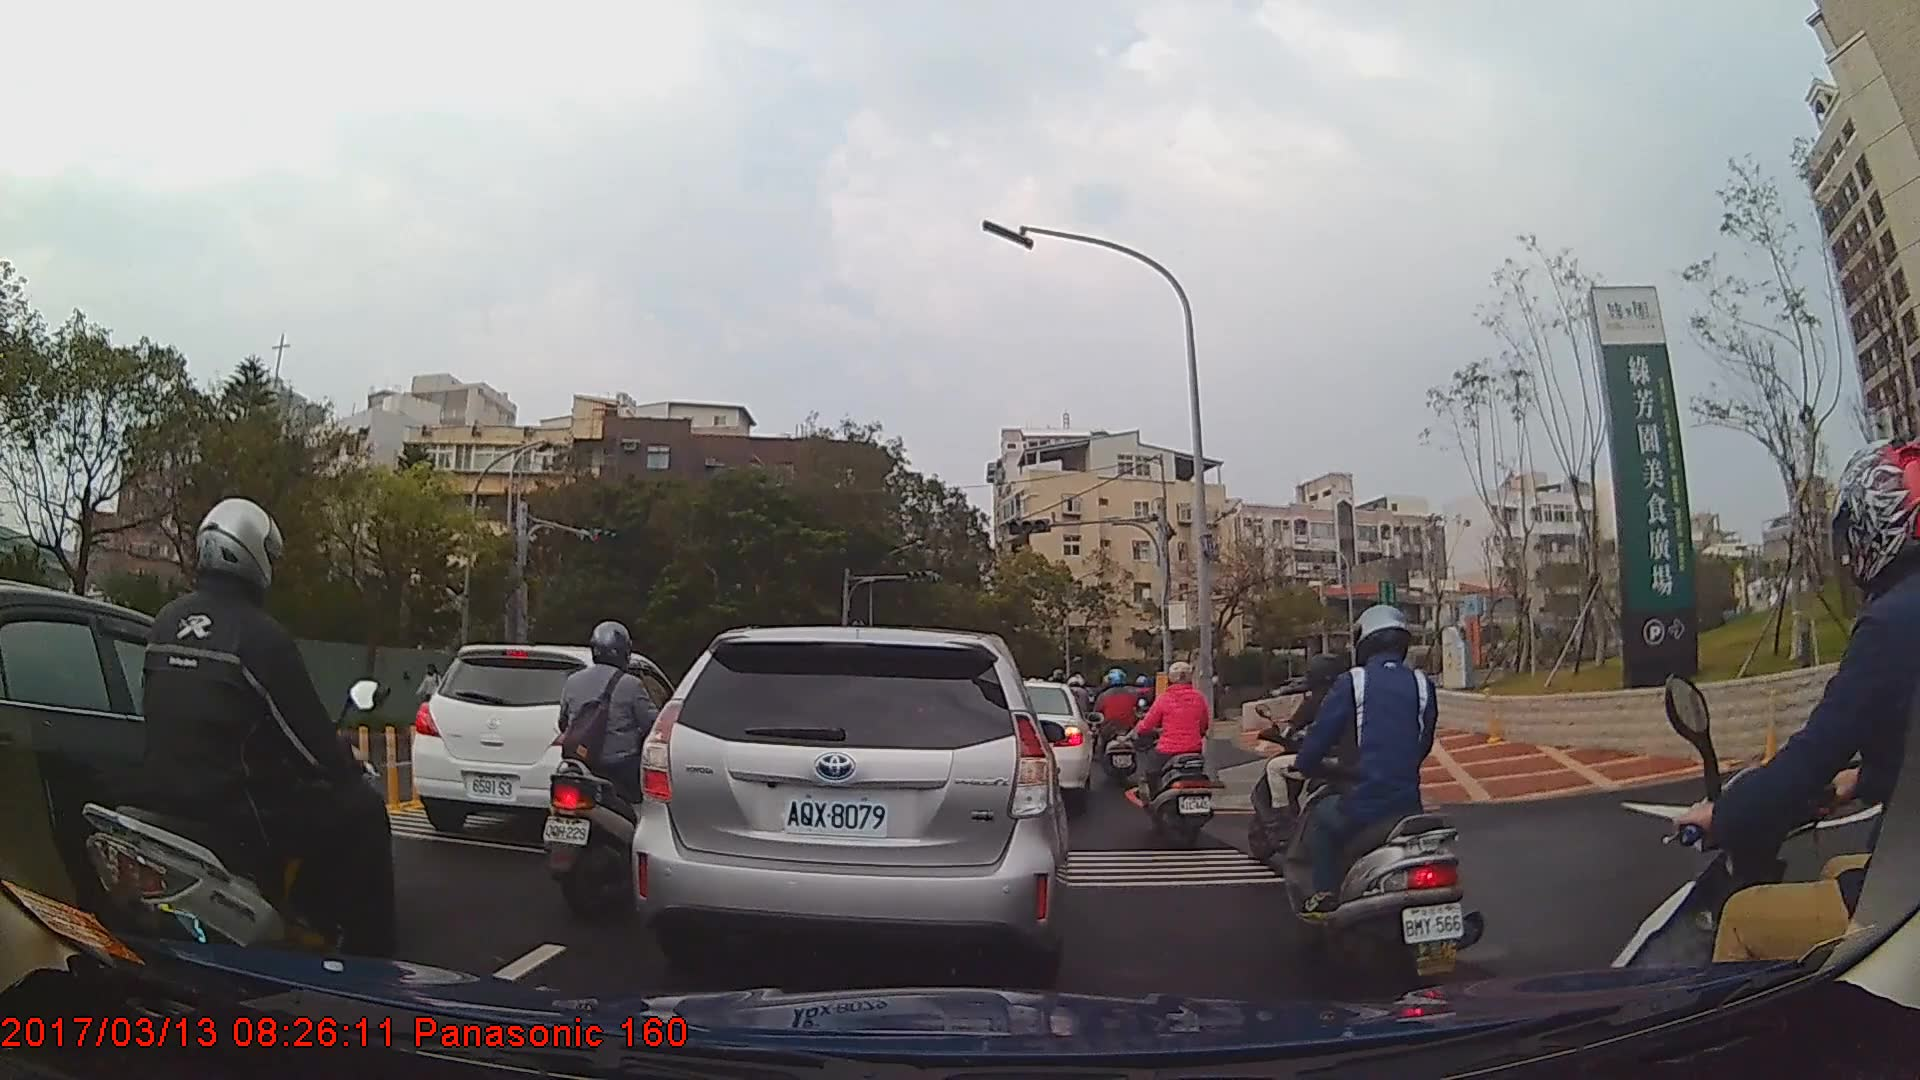pedestrian: (424, 662, 446, 726)
rider: (1610, 439, 1920, 1080), (76, 496, 403, 1033), (1277, 604, 1482, 1011), (542, 622, 676, 916), (1141, 663, 1213, 853), (1091, 667, 1144, 784)
vehicle: (628, 625, 1070, 982), (0, 577, 384, 943), (407, 642, 686, 840), (987, 680, 1093, 803)
